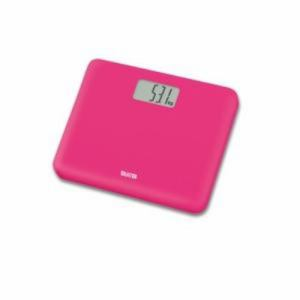LCD: (132, 78, 181, 110)
